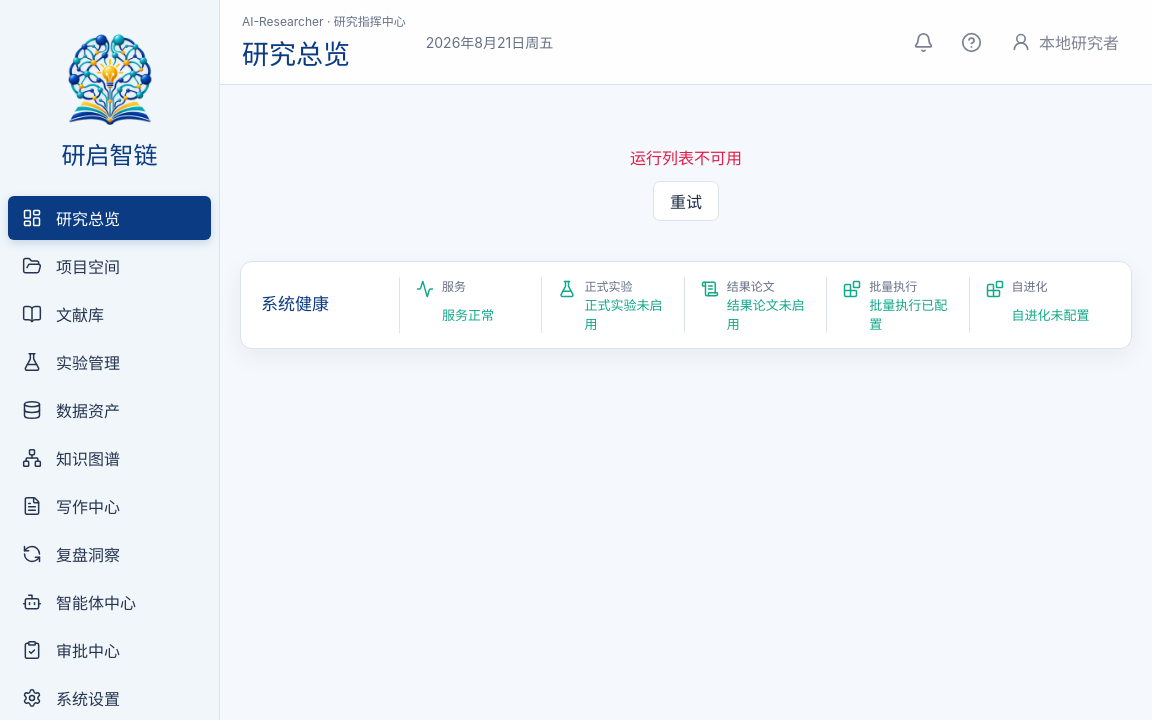
it: shows initial loading and retries a failed run query
The image size is (1152, 720).
expect the text "正在加载…" is shown: met, box x1=630 y1=148 x2=742 y2=221
expect the message shows "运行列表不可用": met, box x1=630 y1=148 x2=742 y2=168
Click the button "重试": click(686, 201) x1=653 y1=181 x2=719 y2=221
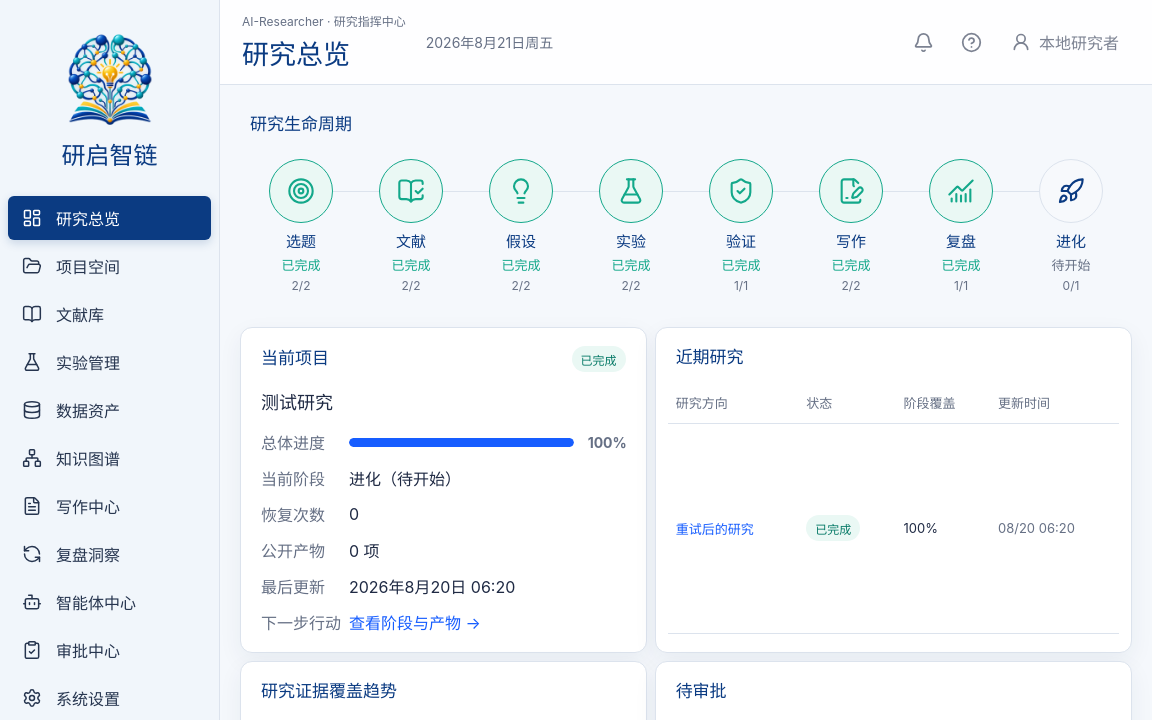
expect the button "重试后的研究" is shown: met, box x1=676 y1=519 x2=754 y2=538
